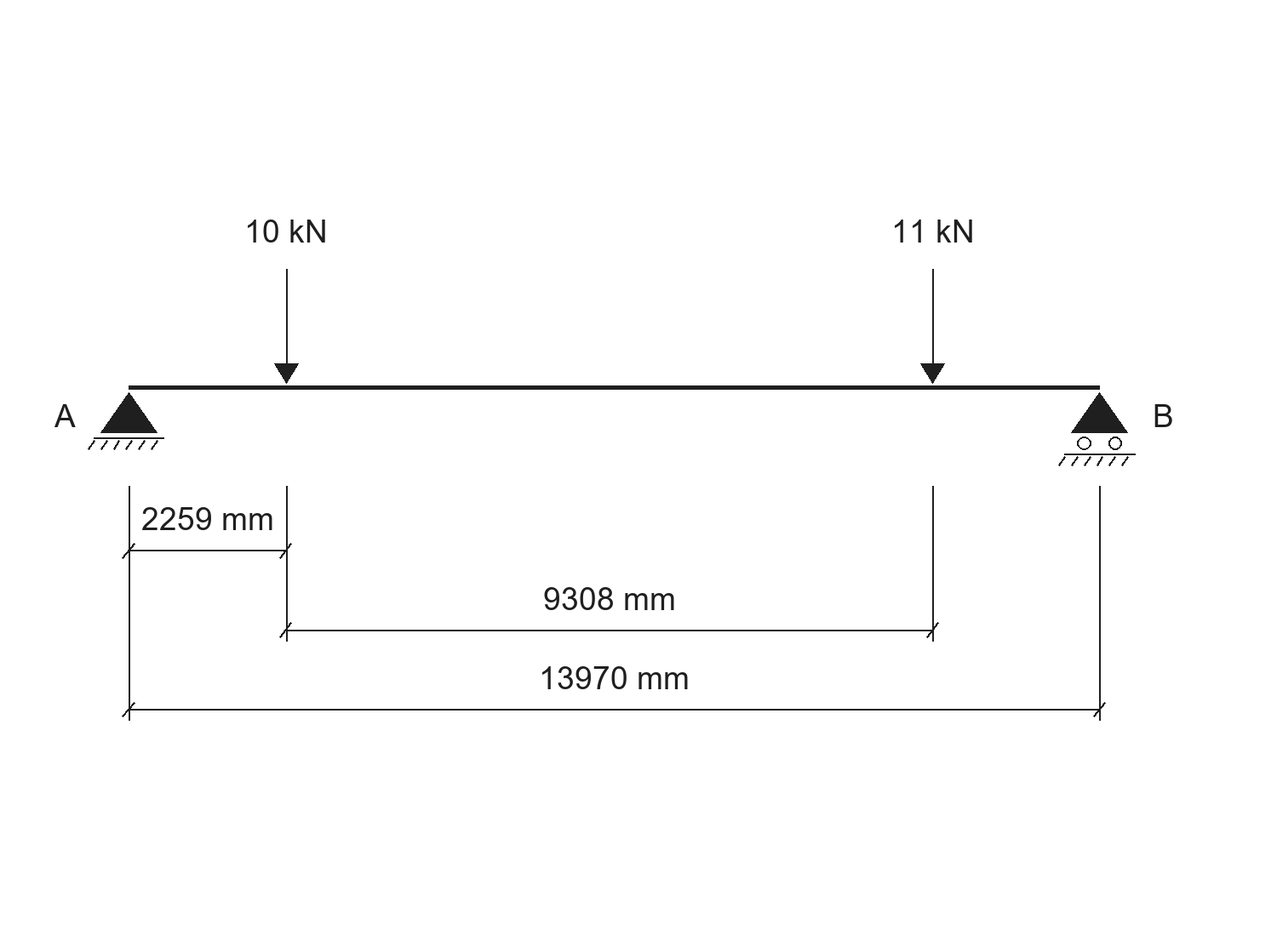pin_support: (88, 392, 164, 450)
point_load: (274, 269, 299, 384), (920, 269, 945, 384)
roller_support: (1058, 392, 1136, 466)
